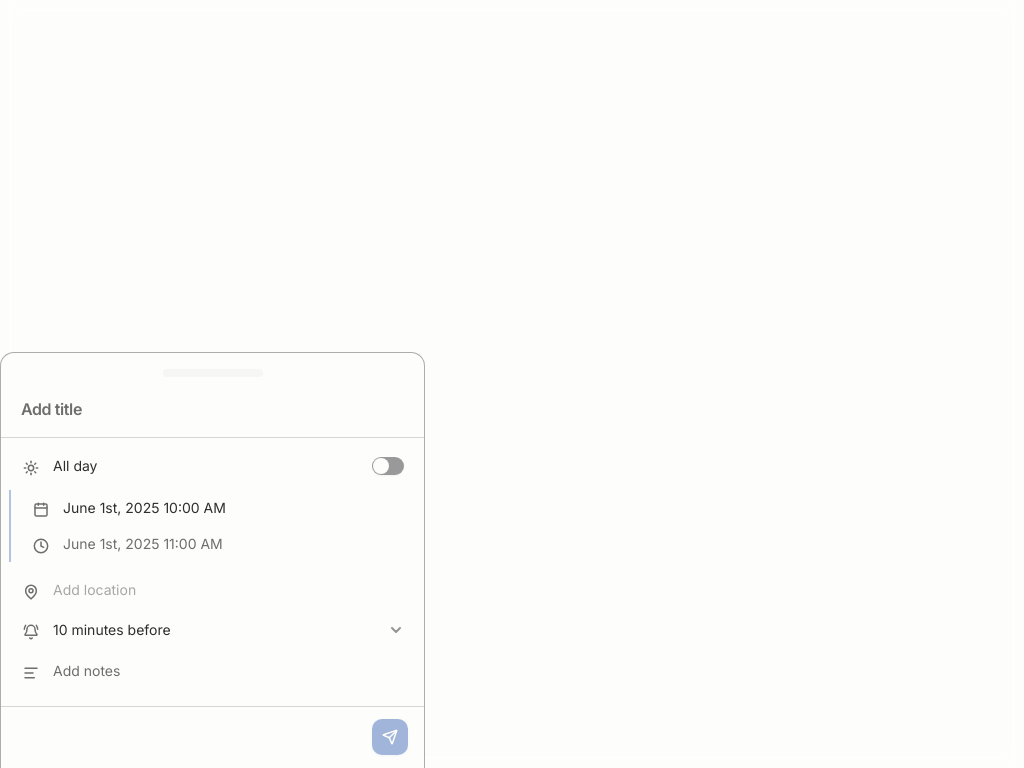
it: CreateEventDialog — button activation (create mode) › [P2] submit button becomes enabled after typing a valid title
expect the button named "create event" is disabled: met, box [372,719,408,755]
Step 1. Type "Team Meeting" into the field with placeholder "Add title" → (212, 409), box [21,398,404,420]
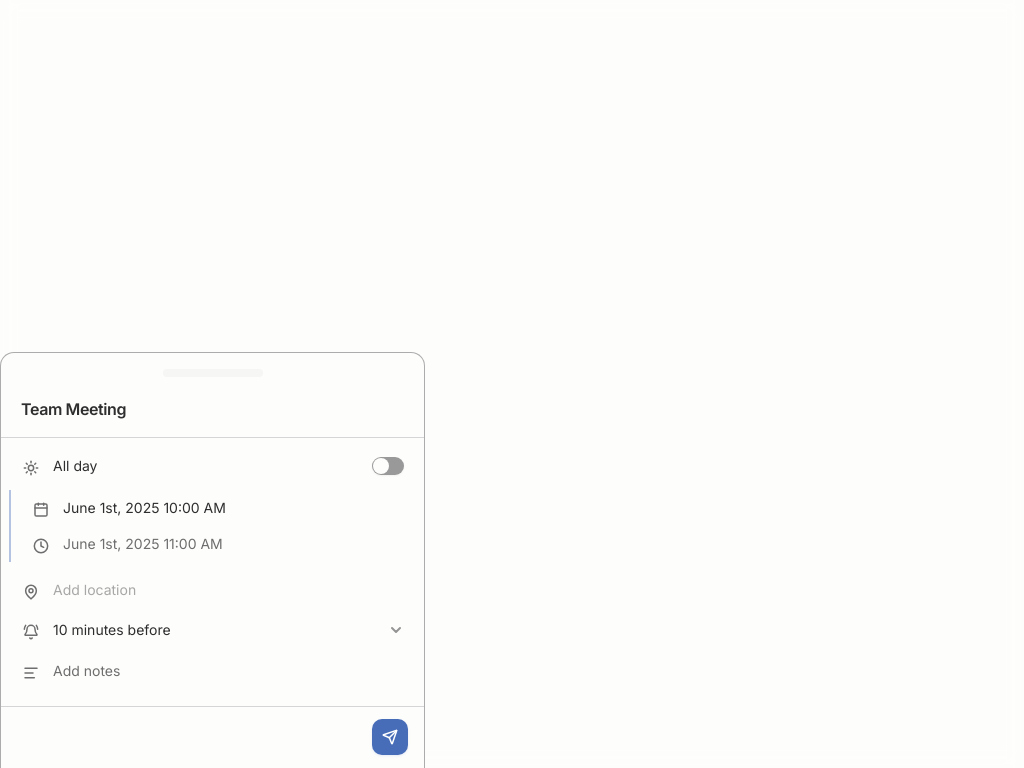
expect the button named "create event" is enabled: met, box [372,719,408,755]
